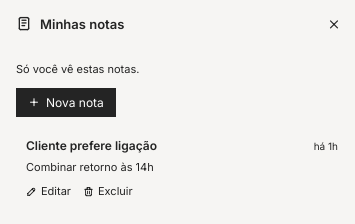
Test case: PainelNotas › não deixa escrever enquanto o corpo não chegou
Click the button "Editar" at (48, 191), box [26,184,71,199]
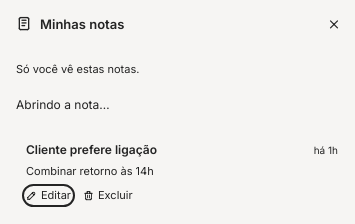
Expected: the message shows "Abrindo a nota", [16,97,110,112]
